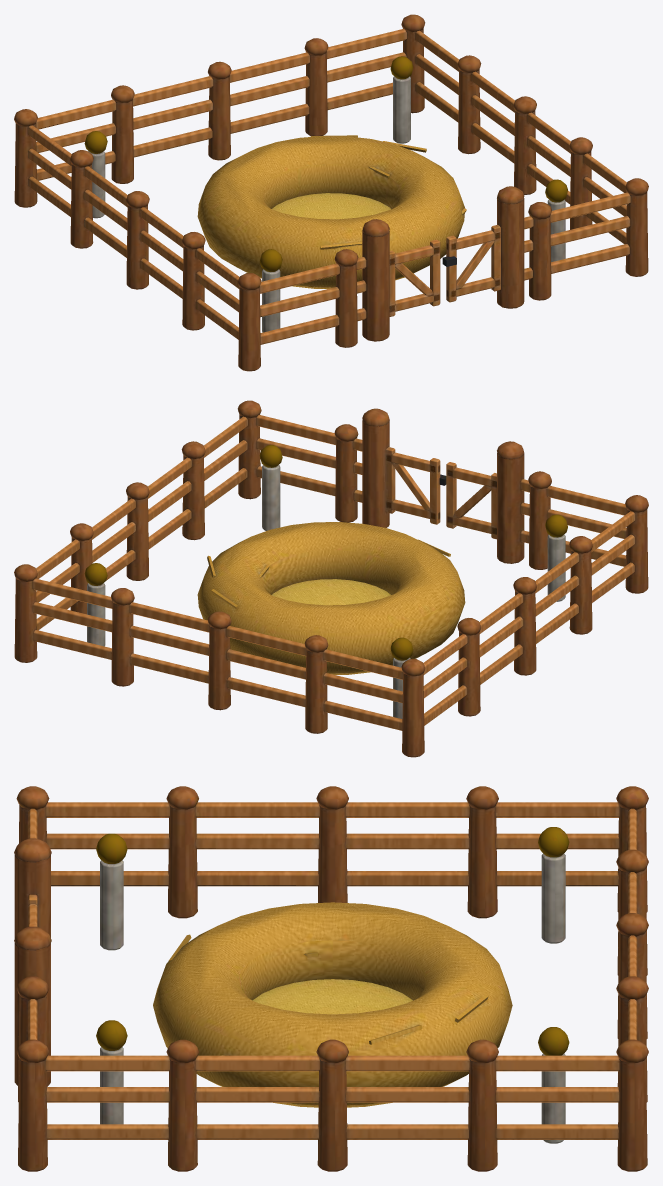
The model's file is golden_nest.glb.
3 renders of one model, top to bottom at view 1: azimuth 30°, elevation 25°; view 2: azimuth 150°, elevation 25°; view 3: azimuth 270°, elevation 25°, orthographic. The views are drawn at different scales.
Parts seen in each view (by area): view 1: golden_nest, gate1, gate0; view 2: golden_nest, gate1, gate0; view 3: golden_nest.
Boxes of the visible parts, left/top/right/bottom form: golden_nest: left=14, top=14, right=648, bottom=371; gate1: left=442, top=224, right=500, bottom=302; gate0: left=389, top=239, right=440, bottom=316; golden_nest: left=14, top=400, right=648, bottom=757; gate1: left=385, top=447, right=446, bottom=524; gate0: left=446, top=462, right=496, bottom=539; golden_nest: left=14, top=786, right=648, bottom=1171.
Size of the model in its own units: 2 by 0.5647 by 2.01.
1 material, 1 textured.
